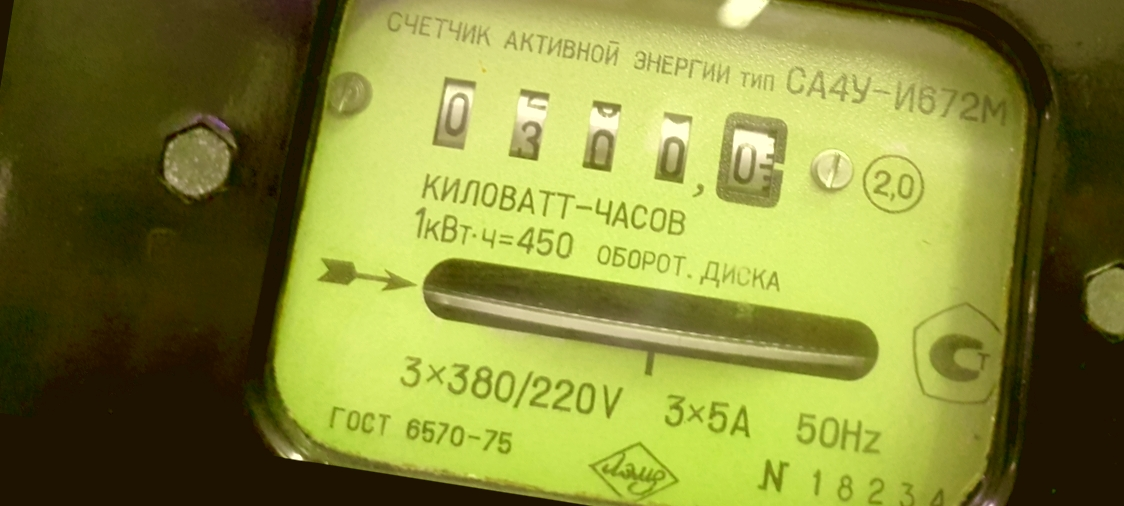0: (726, 136, 761, 188), (439, 84, 472, 139), (582, 121, 616, 173), (652, 131, 688, 180)
3: (511, 113, 545, 160)
screen: (408, 55, 800, 218)
